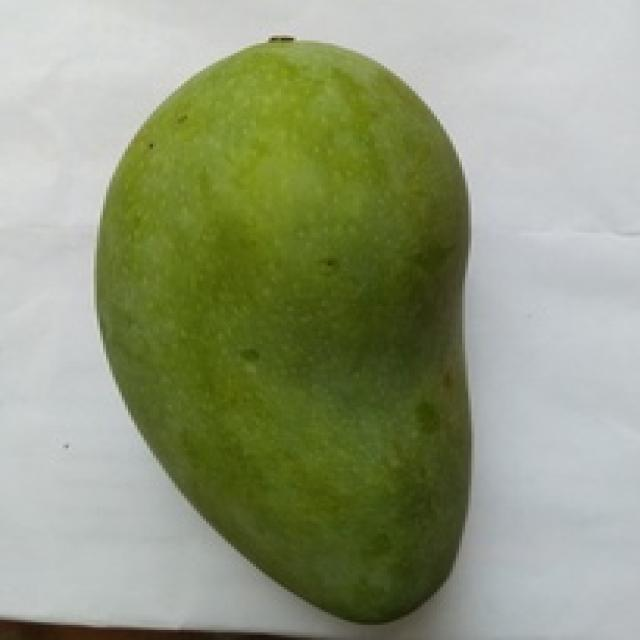Mango: (100, 38, 468, 620)
